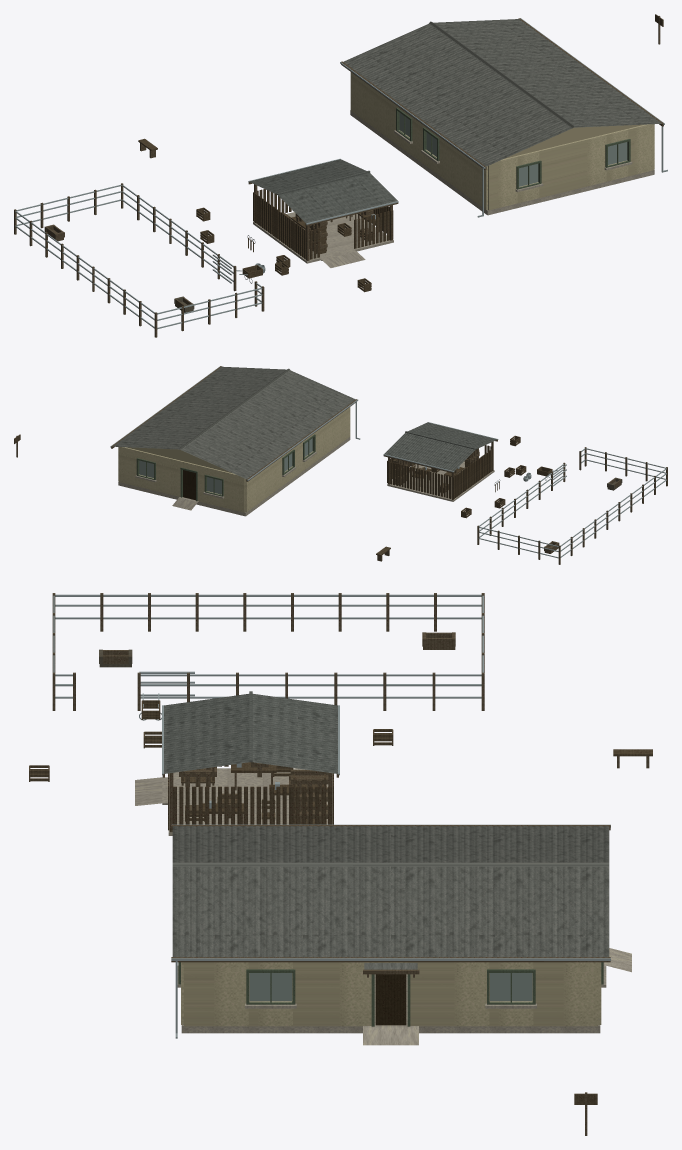
3 renders of one model, top to bottom at view 1: azimuth 30°, elevation 25°; view 2: azimuth 150°, elevation 25°; view 3: azimuth 270°, elevation 25°, orthographic. The views are drawn at different scales.
Visible parts, largest first — view 1: H39_CHAPAS_ONDULADAS, H39_LATERAIS, H39_RANCHO_COBERTURA, H39_FUNDOS, H39_RANCHO_RIPAS, H39_CURRAL_TRAVESSAS, H39_CURRAL_MOURAO, H39_FUNDACAO, H39_RANCHO_BASE, H39_OITOES, H39_VIDROS_RECUADOS, H39_CAIXILHOS (+3 smaller); view 2: H39_CHAPAS_ONDULADAS, H39_LATERAIS, H39_RANCHO_COBERTURA, H39_FUNDOS, H39_RANCHO_RIPAS, H39_CURRAL_TRAVESSAS, H39_CURRAL_MOURAO, H39_FUNDACAO, H39_RANCHO_BASE, H39_VIDROS_RECUADOS, H39_OITOES, H39_CAIXILHOS (+4 smaller); view 3: H39_CHAPAS_ONDULADAS, H39_FACHADA, H39_RANCHO_COBERTURA, H39_CURRAL_TRAVESSAS, H39_RANCHO_RIPAS, H39_FUNDACAO, H39_CURRAL_MOURAO, H39_RANCHO_BASE, H39_VIDROS_RECUADOS, H39_BEIRAIS, H39_CUMEEIRA, H39_CALHA (+3 smaller).
Part boxes in pixels (x1,y1,x2,y2): H39_CHAPAS_ONDULADAS: [343, 19, 661, 166]; H39_LATERAIS: [488, 124, 653, 210]; H39_RANCHO_COBERTURA: [249, 159, 397, 223]; H39_FUNDOS: [350, 72, 487, 209]; H39_RANCHO_RIPAS: [253, 189, 393, 259]; H39_CURRAL_TRAVESSAS: [15, 184, 262, 329]; H39_CURRAL_MOURAO: [14, 183, 264, 337]; H39_FUNDACAO: [350, 110, 654, 215]; H39_RANCHO_BASE: [253, 212, 393, 263]; H39_OITOES: [504, 124, 643, 158]; H39_VIDROS_RECUADOS: [399, 113, 627, 186]; H39_CAIXILHOS: [396, 107, 630, 189]; H39_CHAPAS_ONDULADAS: [113, 366, 355, 479]; H39_LATERAIS: [119, 447, 245, 512]; H39_RANCHO_COBERTURA: [384, 422, 497, 470]; H39_FUNDOS: [245, 407, 350, 512]; H39_RANCHO_RIPAS: [387, 445, 493, 499]; H39_CURRAL_TRAVESSAS: [478, 448, 666, 558]; H39_CURRAL_MOURAO: [477, 447, 667, 564]; H39_FUNDACAO: [118, 437, 350, 516]; H39_RANCHO_BASE: [387, 463, 494, 501]; H39_VIDROS_RECUADOS: [139, 438, 312, 494]; H39_OITOES: [127, 447, 232, 473]; H39_CAIXILHOS: [136, 434, 315, 496]; H39_CHAPAS_ONDULADAS: [172, 826, 609, 957]; H39_FACHADA: [184, 962, 598, 1026]; H39_RANCHO_COBERTURA: [164, 694, 337, 773]; H39_CURRAL_TRAVESSAS: [53, 594, 483, 698]; H39_RANCHO_RIPAS: [168, 765, 333, 830]; H39_FUNDACAO: [181, 973, 600, 1033]; H39_CURRAL_MOURAO: [52, 593, 484, 710]; H39_RANCHO_BASE: [168, 768, 332, 835]; H39_VIDROS_RECUADOS: [249, 973, 532, 1001]; H39_BEIRAIS: [171, 825, 610, 962]; H39_CUMEEIRA: [172, 862, 609, 866]; H39_CALHA: [171, 824, 610, 960].
Bounding box in the file's own units: 40.69 × 4.07 × 21.22.
12 materials, 9 textured.
